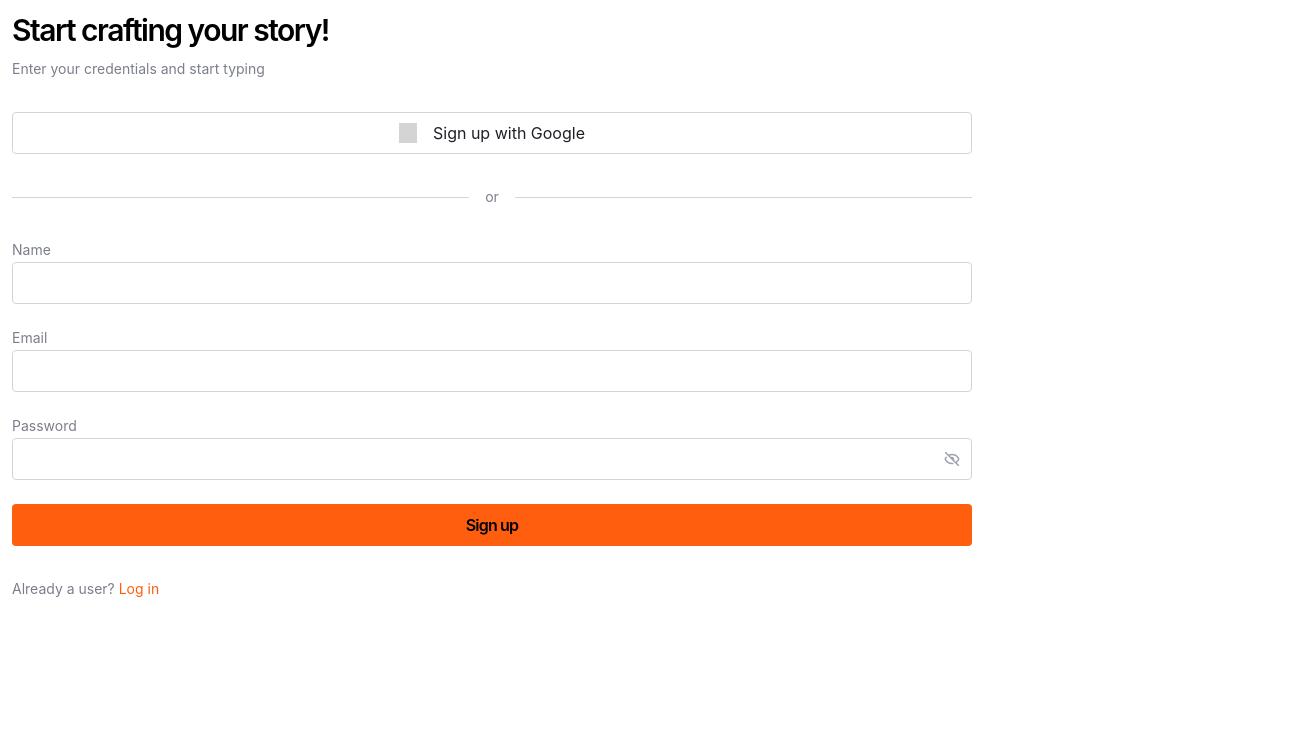
Test: <Signup /> › Form validation › should show an error when the password is invalid
In the password field labelled "Password": point(473, 459) [13,447,933,471], type "test"
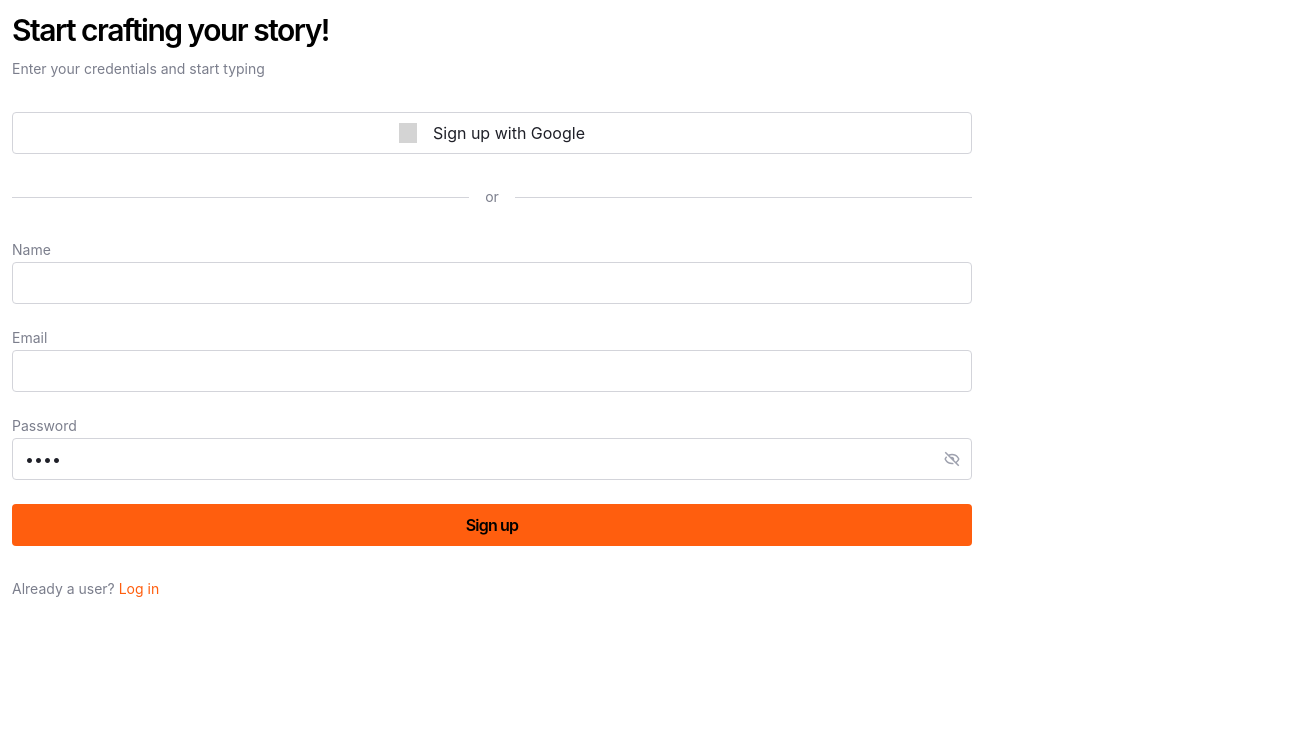
Click the button "Sign up": point(492, 525) [12,504,972,546]
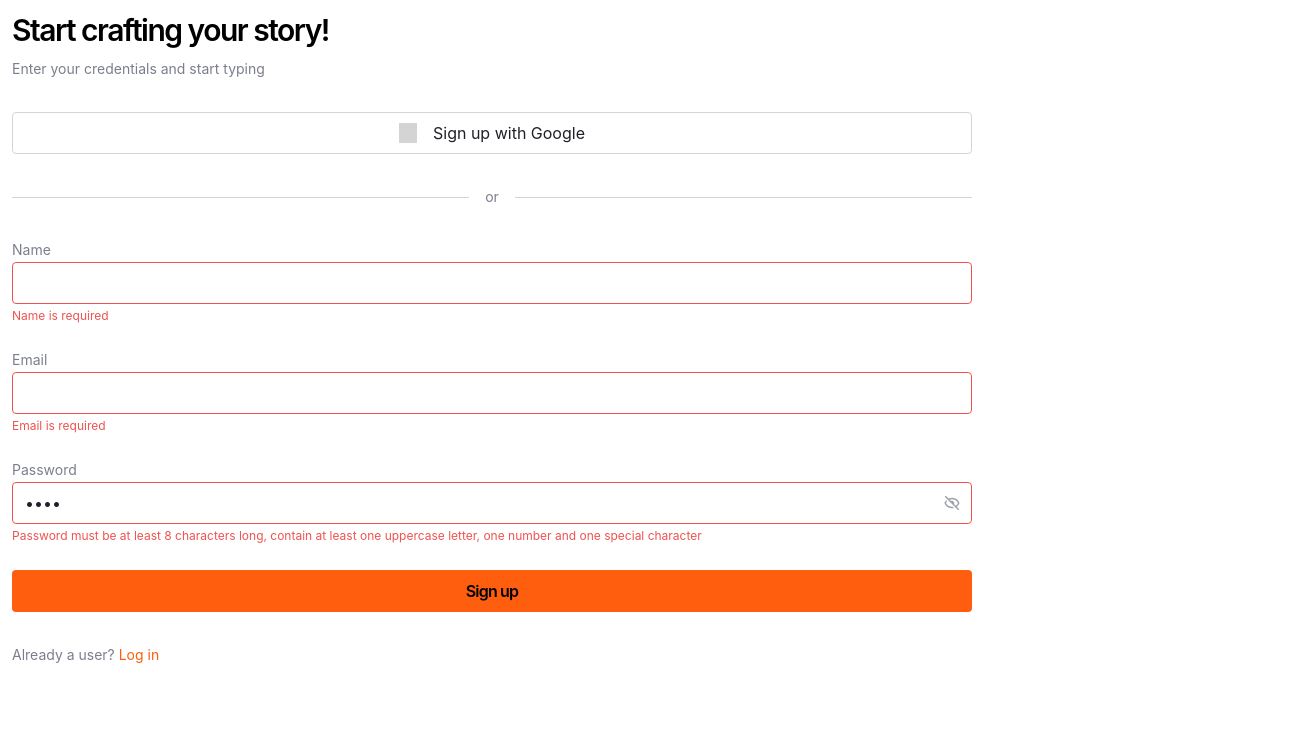
Now the text "Password must be at least 8 characters long, contain at least one uppercase letter, one number and one special character" is shown, box [12,528,702,543]
